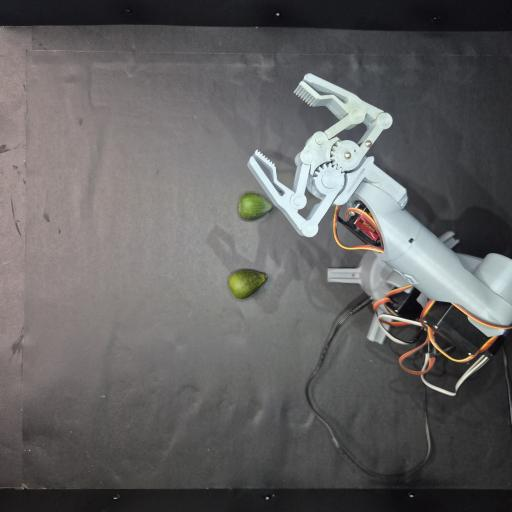higo: (228, 269, 267, 299), (238, 193, 273, 220)
